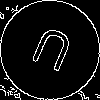U: (25, 25, 76, 82)
